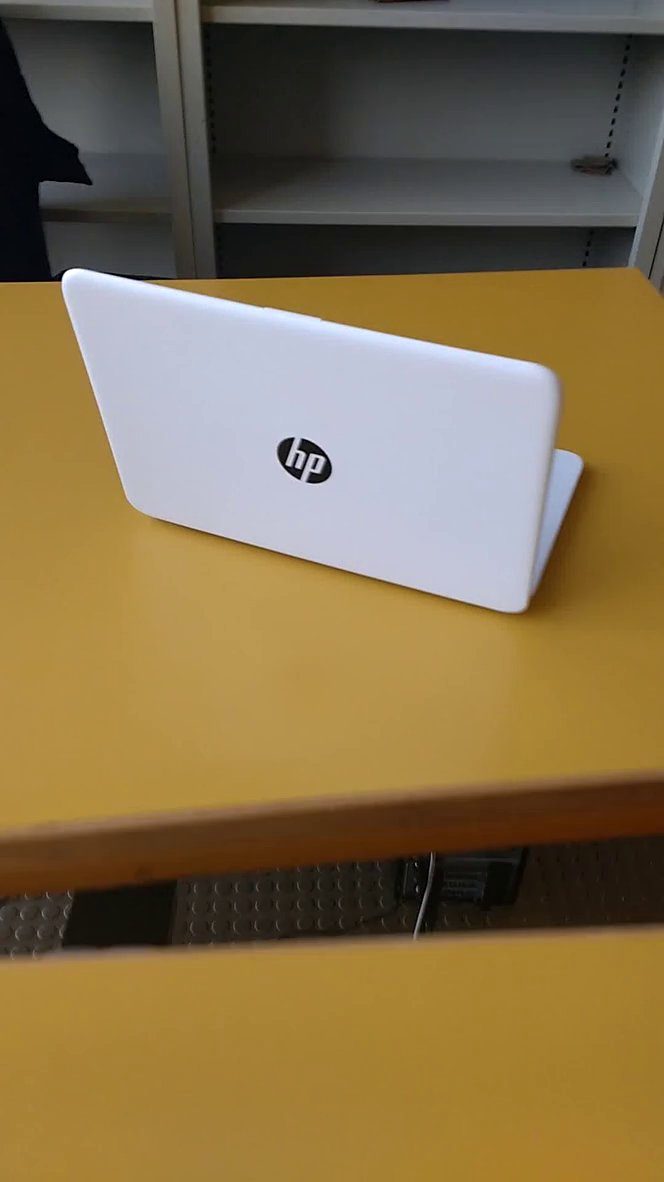laptop: (49, 253, 608, 634)
